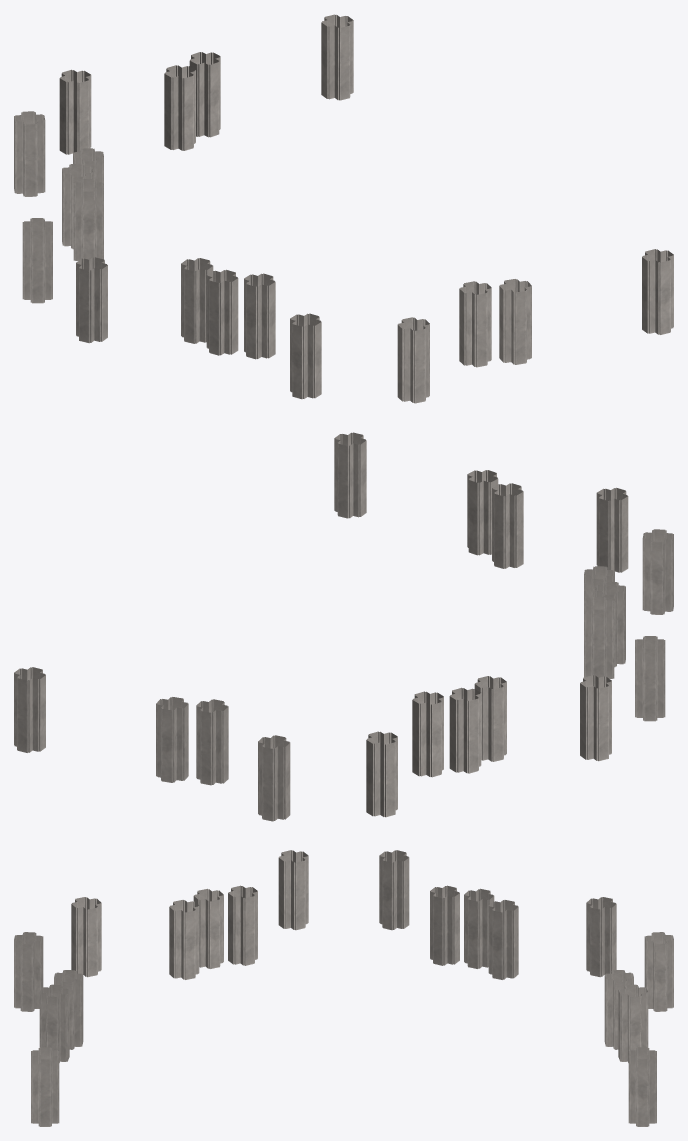
Rendered from Ambulatory_Outer_Post_A_3m.fbx.
3 renders of one model, top to bottom at view 1: azimuth 30°, elevation 25°; view 2: azimuth 150°, elevation 25°; view 3: azimuth 270°, elevation 25°, orthographic. The views are drawn at different scales.
Visible parts, largest first — view 1: Ambulatory_Outer_Post_A_3m; view 2: Ambulatory_Outer_Post_A_3m; view 3: Ambulatory_Outer_Post_A_3m.
Part boxes in pixels (left/top/right/bottom): Ambulatory_Outer_Post_A_3m: left=14, top=14, right=673, bottom=403; Ambulatory_Outer_Post_A_3m: left=14, top=432, right=673, bottom=821; Ambulatory_Outer_Post_A_3m: left=14, top=850, right=673, bottom=1126.
Bounding box in the file's own units: 19.89 × 26.51 × 3.
